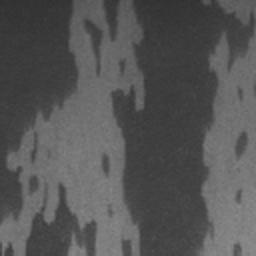Red iron sheet: (100, 0, 256, 256), (1, 0, 99, 256), (84, 0, 122, 76), (233, 131, 247, 156), (232, 242, 243, 256), (234, 188, 243, 205), (106, 201, 114, 220), (236, 86, 246, 101)
